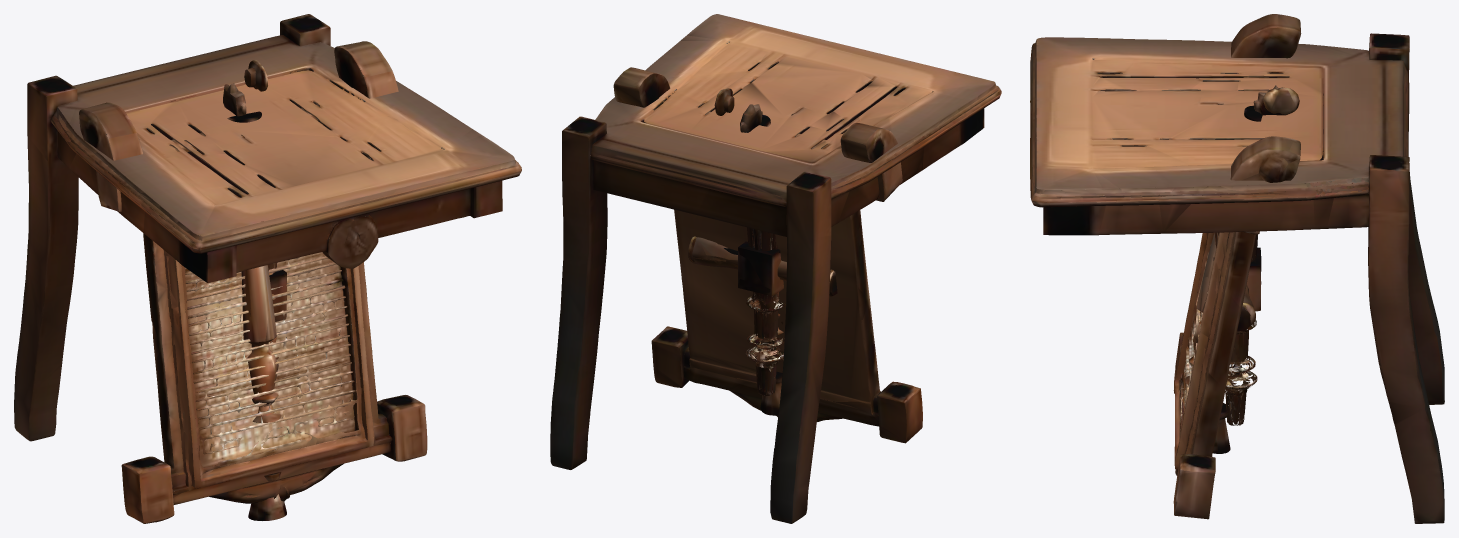
3 views of the same model, side by side, from view 1: azimuth 30°, elevation 25°; view 2: azimuth 150°, elevation 25°; view 3: azimuth 270°, elevation 25° (orthographic). The views are drawn at different scales.
Visible parts, largest first — view 1: root.0, root.1, root.5; view 2: root.0, root.1, root.2, root.3, root.9, root.6, root.4, root.8, root.7; view 3: root.0, root.1, root.3, root.5, root.2, root.4, root.8.
Boxes of the visible parts, box(x1,y1,x2,y2) form: root.0: box(14, 14, 521, 441); root.1: box(79, 41, 427, 523); root.5: box(241, 60, 286, 520); root.0: box(550, 14, 1001, 523); root.1: box(613, 67, 922, 443); root.2: box(747, 228, 785, 395); root.3: box(746, 227, 783, 395); root.9: box(739, 241, 783, 295); root.6: box(688, 237, 833, 280); root.4: box(752, 114, 783, 415); root.8: box(737, 241, 780, 292); root.7: box(688, 236, 837, 296); root.0: box(1030, 33, 1444, 523); root.1: box(1173, 14, 1301, 519); root.3: box(1214, 232, 1257, 425); root.5: box(1175, 87, 1299, 480); root.2: box(1215, 232, 1257, 425); root.4: box(1212, 105, 1262, 453); root.8: box(1246, 248, 1261, 311).
Bounding box in the file's own units: 18825 × 22686 × 20871.
Materials: 1 (1 with a texture image).
